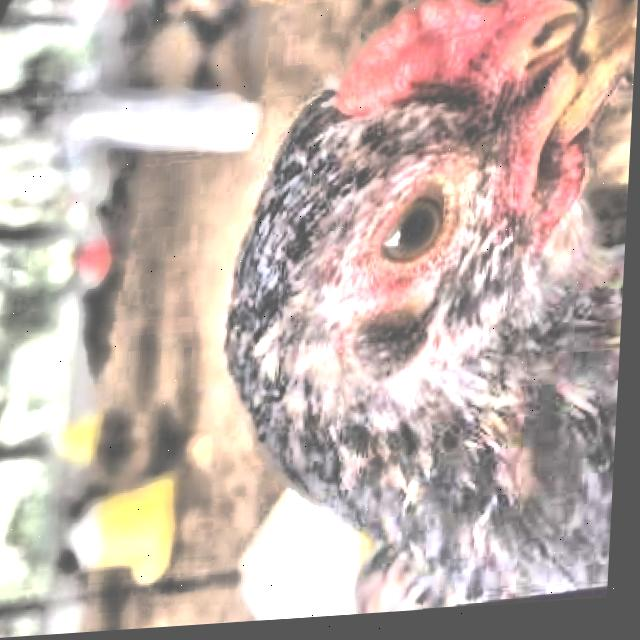Healthy: (368, 178, 467, 302)
